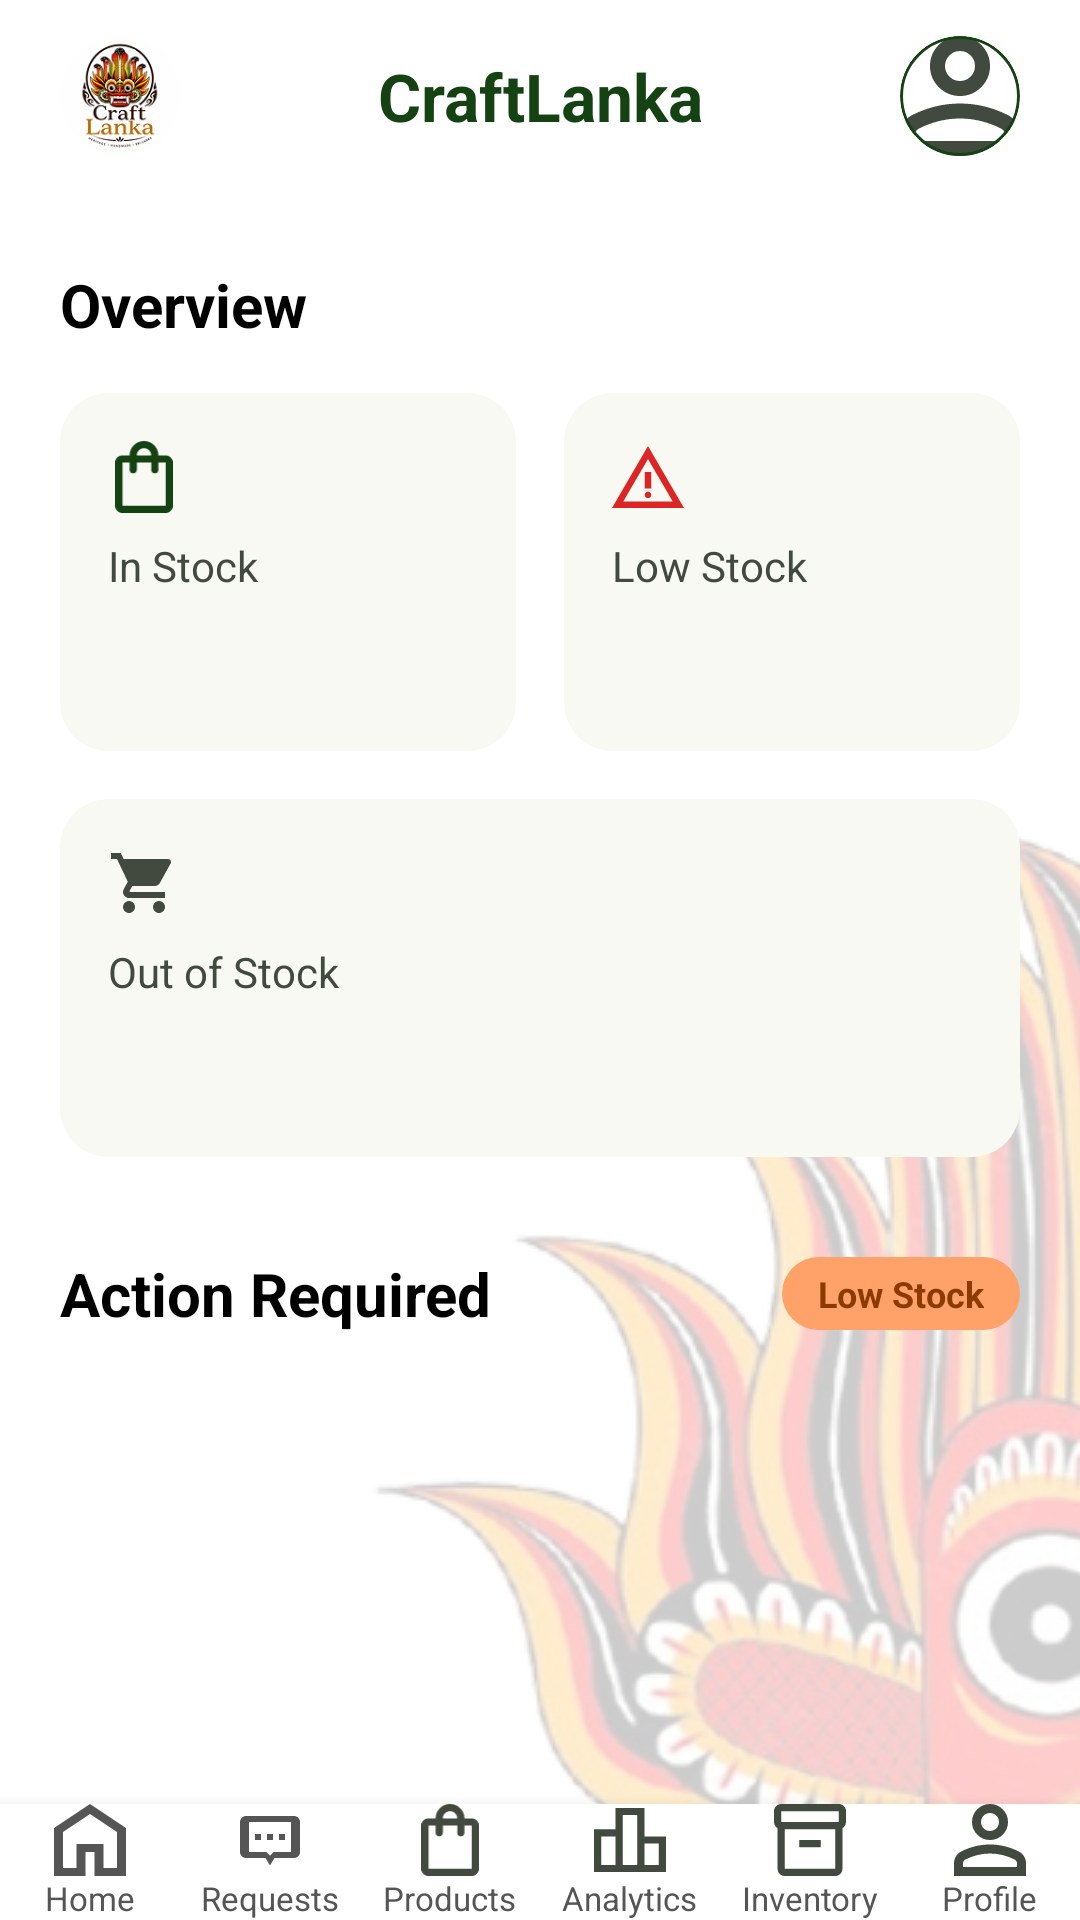

Screen size 1080px×1920px. Icon name, then its center in pixels as (x=x, y=y):
cart: (x=141, y=883)
warning: (x=648, y=477)
